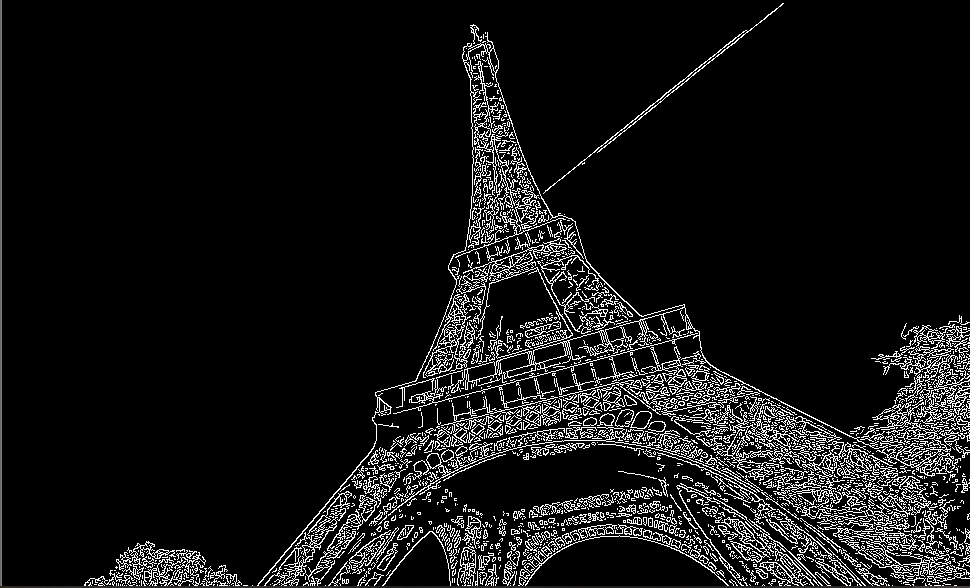eiffel tower: (233, 19, 933, 578)
